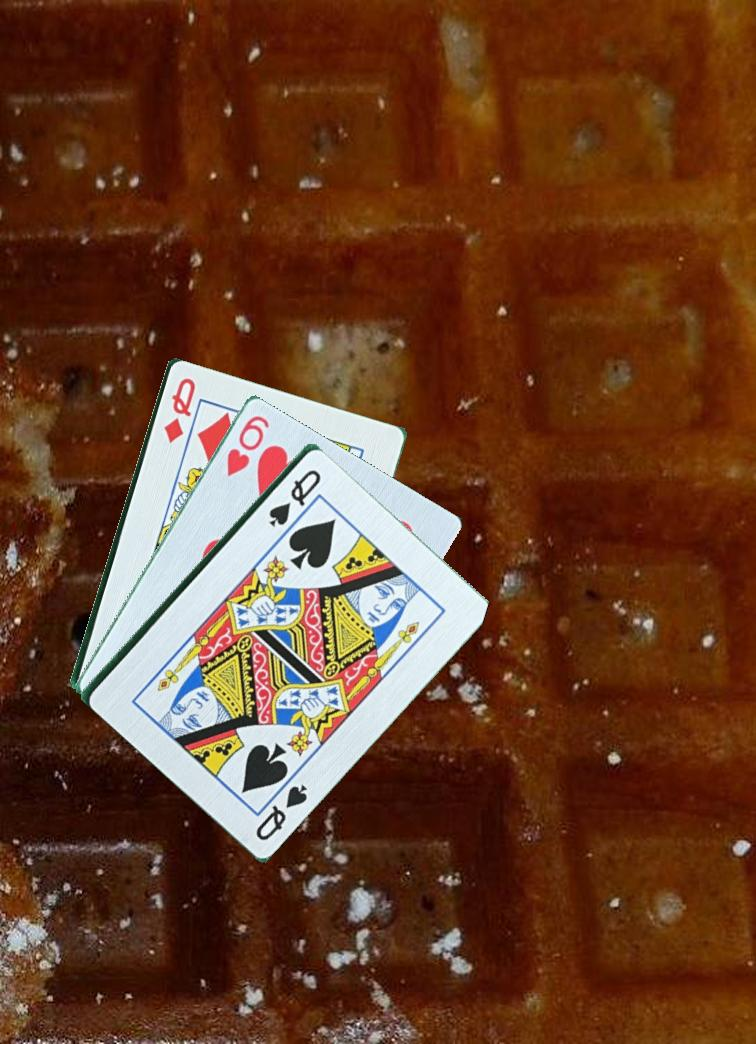6h: (222, 411, 272, 479)
qd: (160, 373, 199, 446)
qs: (252, 778, 311, 844), (265, 465, 325, 529)
